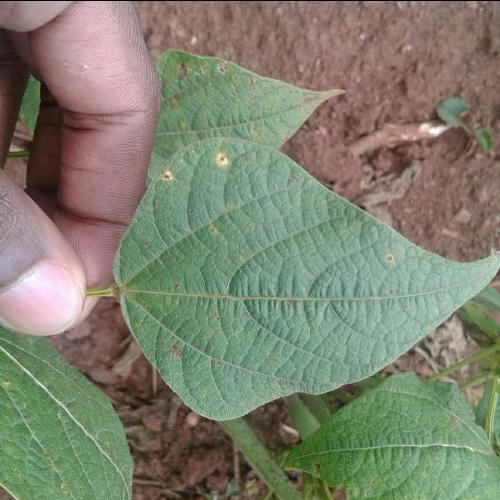hawar: (166, 47, 242, 114), (155, 149, 246, 201)
